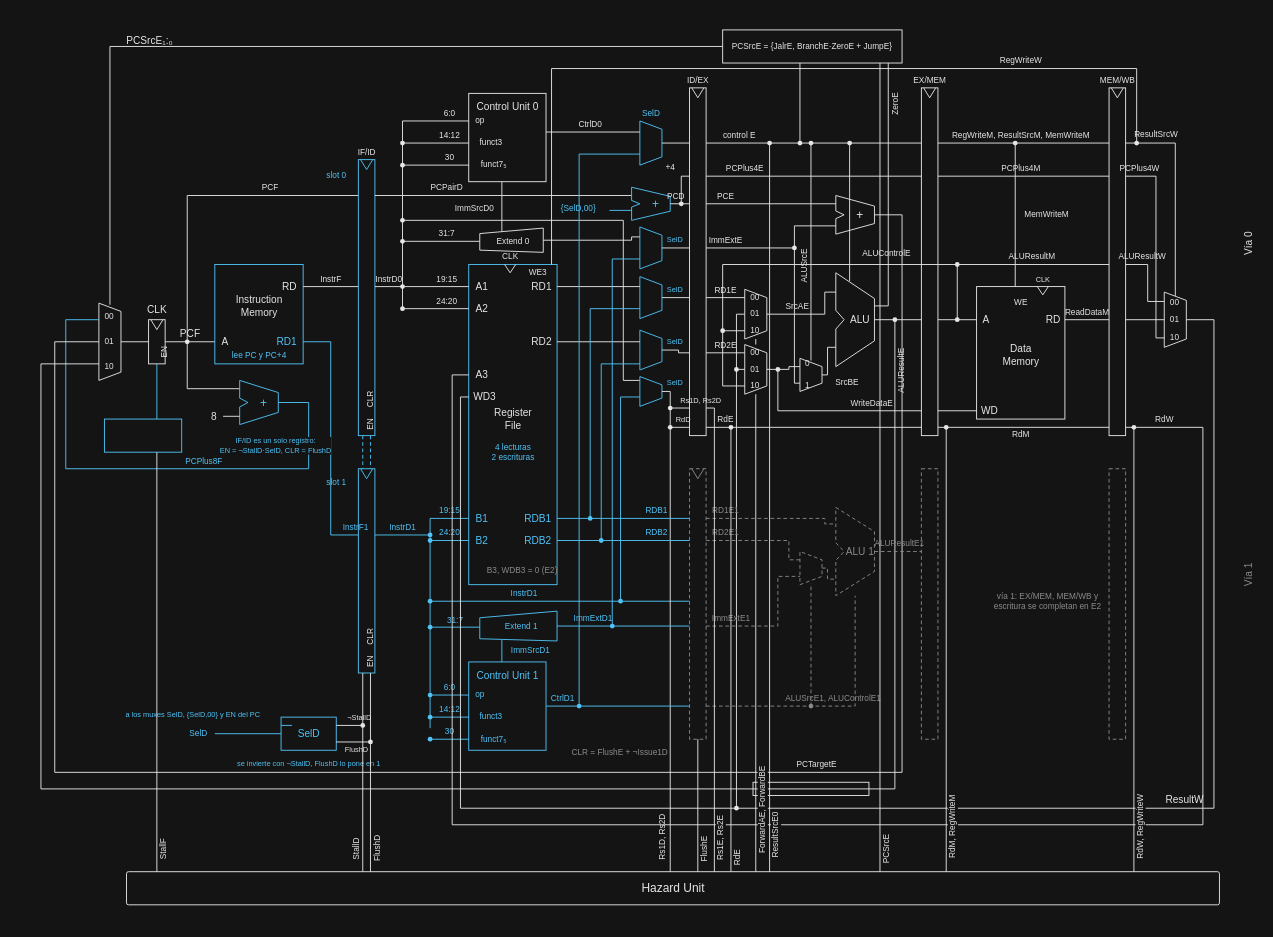
The diagram is 1273 pixels wide and 937 high, and some of its shapes have lost their labels. The centre of each missing label's shape, as x and y in pixels:
"EN = ¬StallF· (SelD + FlushD)" belongs at [143,435].
"{ALUResultE[31:1], 0}" belongs at [810,788].
